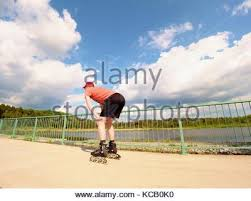roller_blade: (90, 140, 107, 163), (109, 140, 120, 159)
